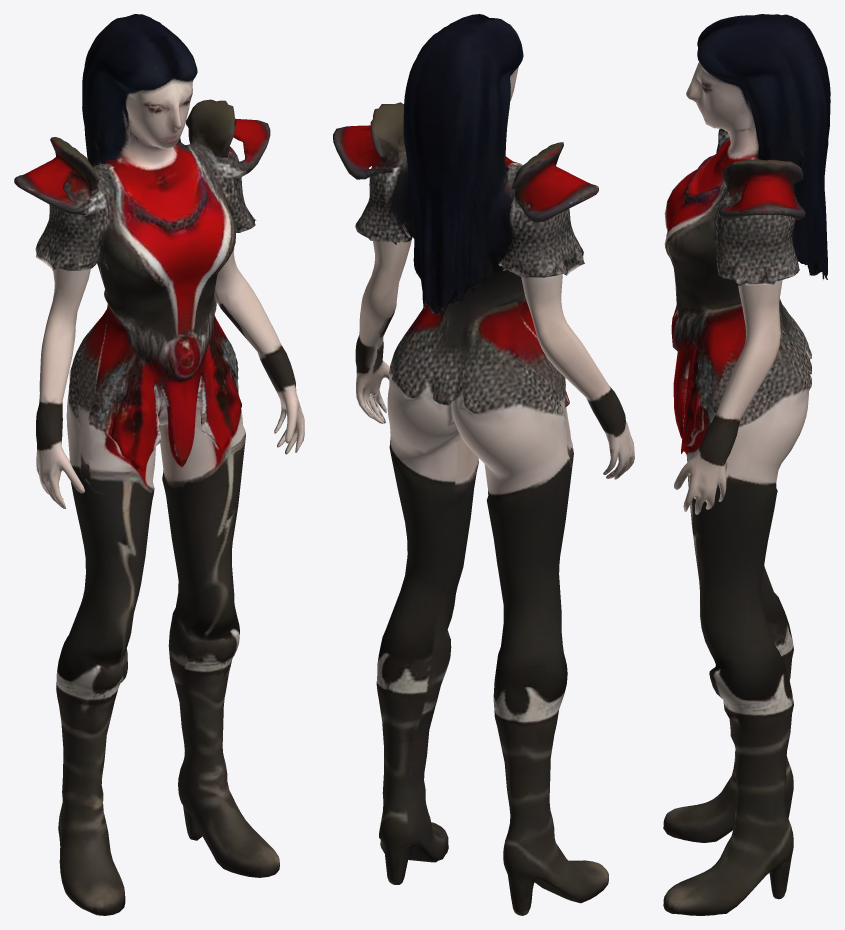
The model's file is ignis-esquelio-female-archer.glb.
3 renders of one model, left to right at view 1: azimuth 30°, elevation 25°; view 2: azimuth 150°, elevation 25°; view 3: azimuth 270°, elevation 25°, orthographic. The views are drawn at different scales.
Parts seen in each view (by area): view 1: model; view 2: model; view 3: model.
Part boxes in pixels (x1,y1,x2,y2): model: (14, 14, 304, 915); model: (333, 14, 634, 915); model: (663, 14, 830, 915).
Size of the model in its own units: 0.6143 by 1.9 by 0.3384.
1 material, 1 textured.
